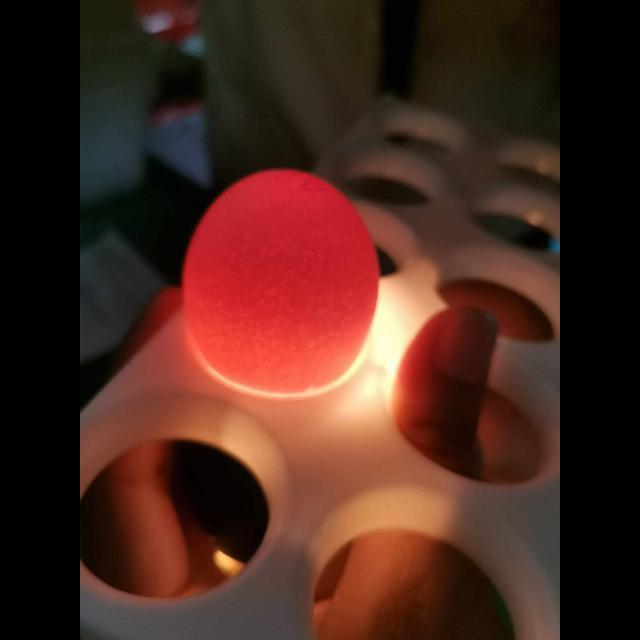Infertile: (184, 172, 378, 390)
